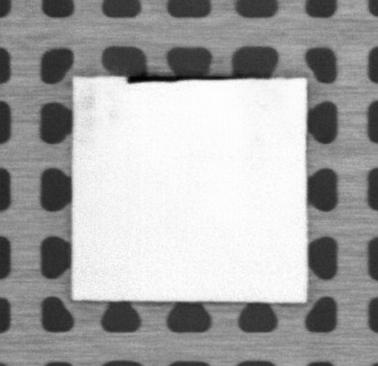DIE_BROKEN: (124, 73, 258, 85)
